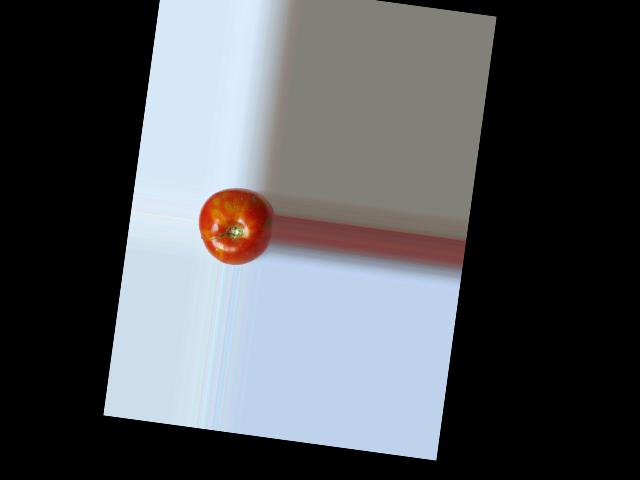tomato: (193, 183, 277, 269)
